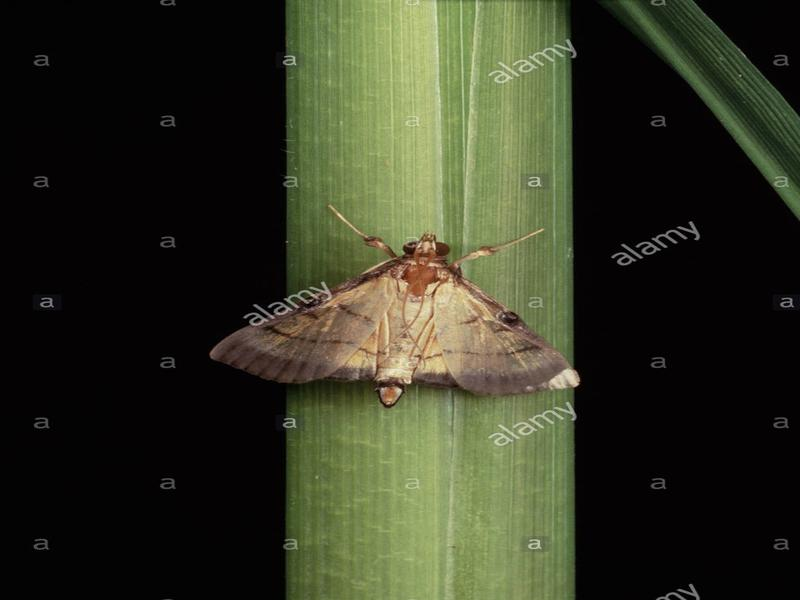Leaf_folder: (202, 224, 587, 402)
